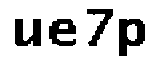7: (84, 4, 114, 48)
e: (47, 15, 77, 50)
p: (115, 14, 146, 60)
u: (8, 16, 42, 50)
